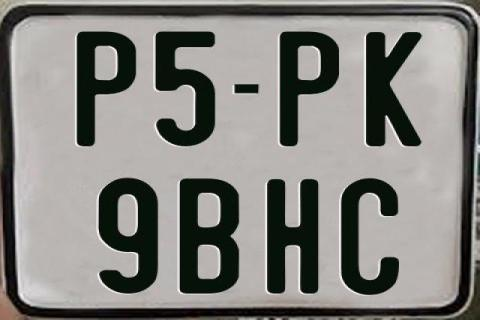0: (98, 177, 164, 293), (154, 31, 219, 148)
B: (178, 177, 240, 296)
C: (339, 176, 403, 295)
H: (266, 179, 320, 295)
K: (363, 30, 424, 148)
P: (278, 31, 343, 147), (76, 29, 137, 149)
